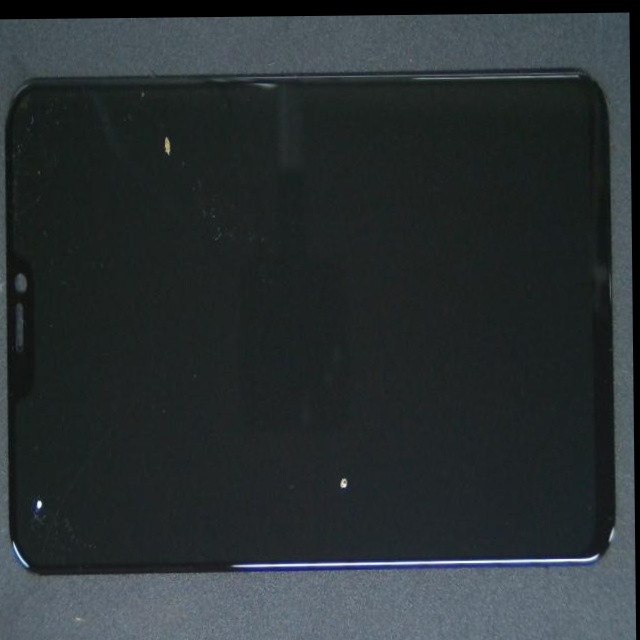stain: (133, 257, 518, 640), (39, 116, 261, 256), (0, 262, 72, 640)
